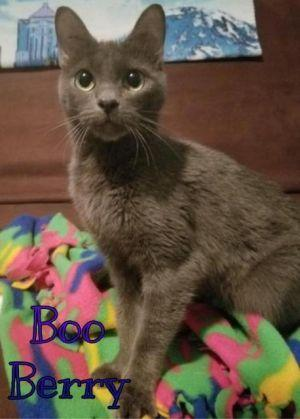rblue: (45, 5, 184, 153)
